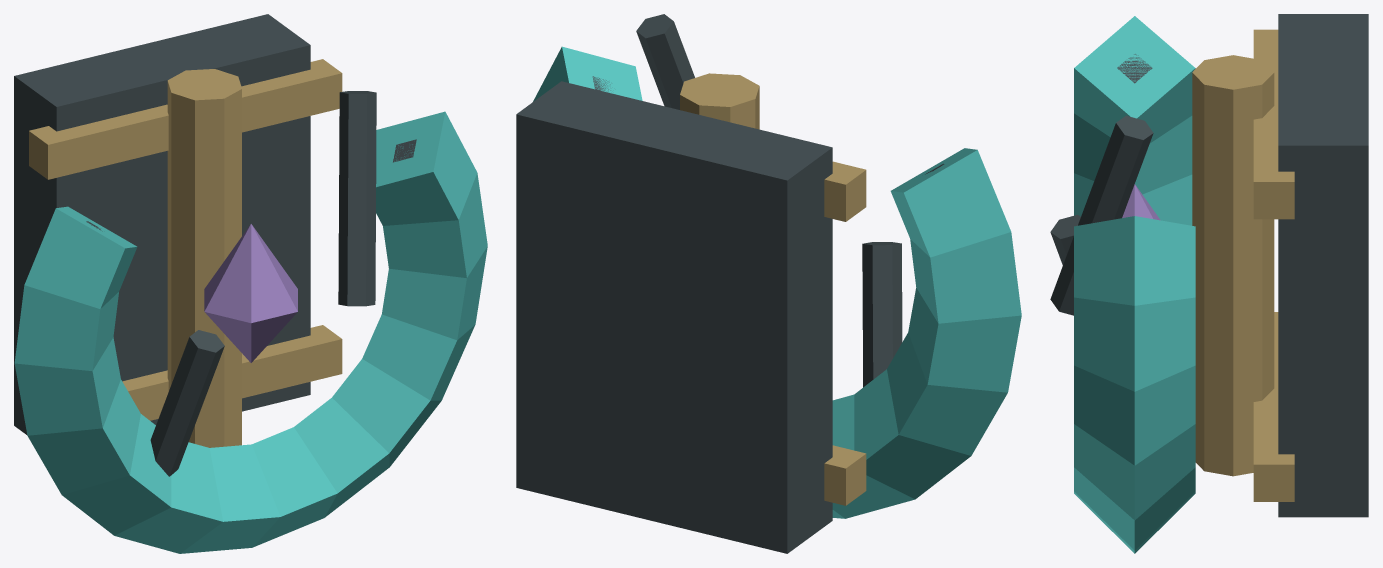
The model's file is Equip_Quicksilver.fbx.
The picture shows the model from 3 angles, left to right: view 1: azimuth 30°, elevation 25°; view 2: azimuth 150°, elevation 25°; view 3: azimuth 270°, elevation 25°; orthographic projection. The views are drawn at different scales.
Parts seen in each view (by area): view 1: Equip_Quicksilver; view 2: Equip_Quicksilver; view 3: Equip_Quicksilver.
Part boxes in pixels (box(x1,y1,x2,y2)): Equip_Quicksilver: box(14, 14, 487, 553); Equip_Quicksilver: box(516, 14, 1021, 553); Equip_Quicksilver: box(1050, 14, 1368, 553).
Bounding box in the file's own units: 0.3539 × 0.3105 × 0.194.
